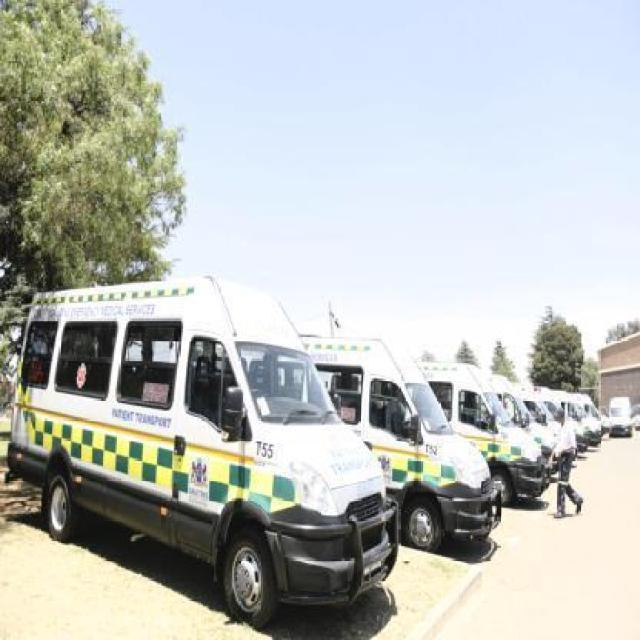emergency: (3, 272, 400, 628)
